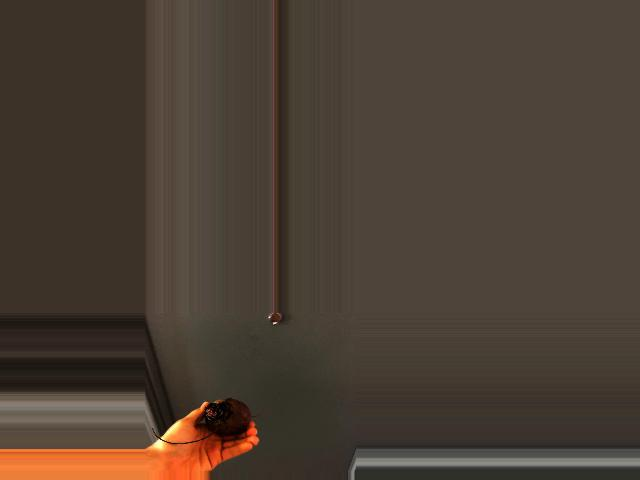beet: (153, 399, 263, 445)
